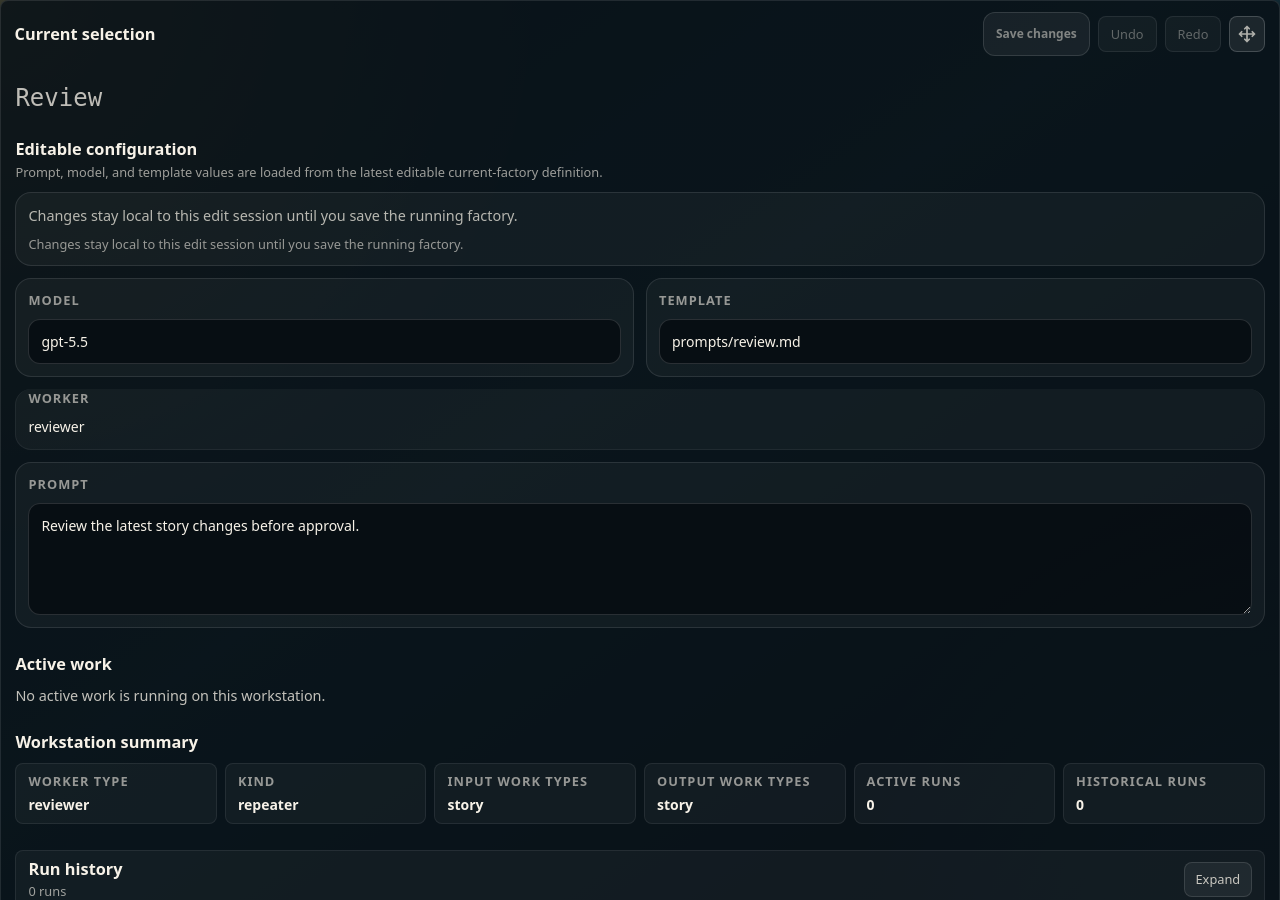
Test case: CurrentSelectionWidget workstation save flow › preserves edited workstation input when the save request fails
This screenshot has width=1280, height=900.
Replace the text in the text box labelled "Prompt" with "Keep this draft while the save fails." at (640,559), box [28,503,1252,615]
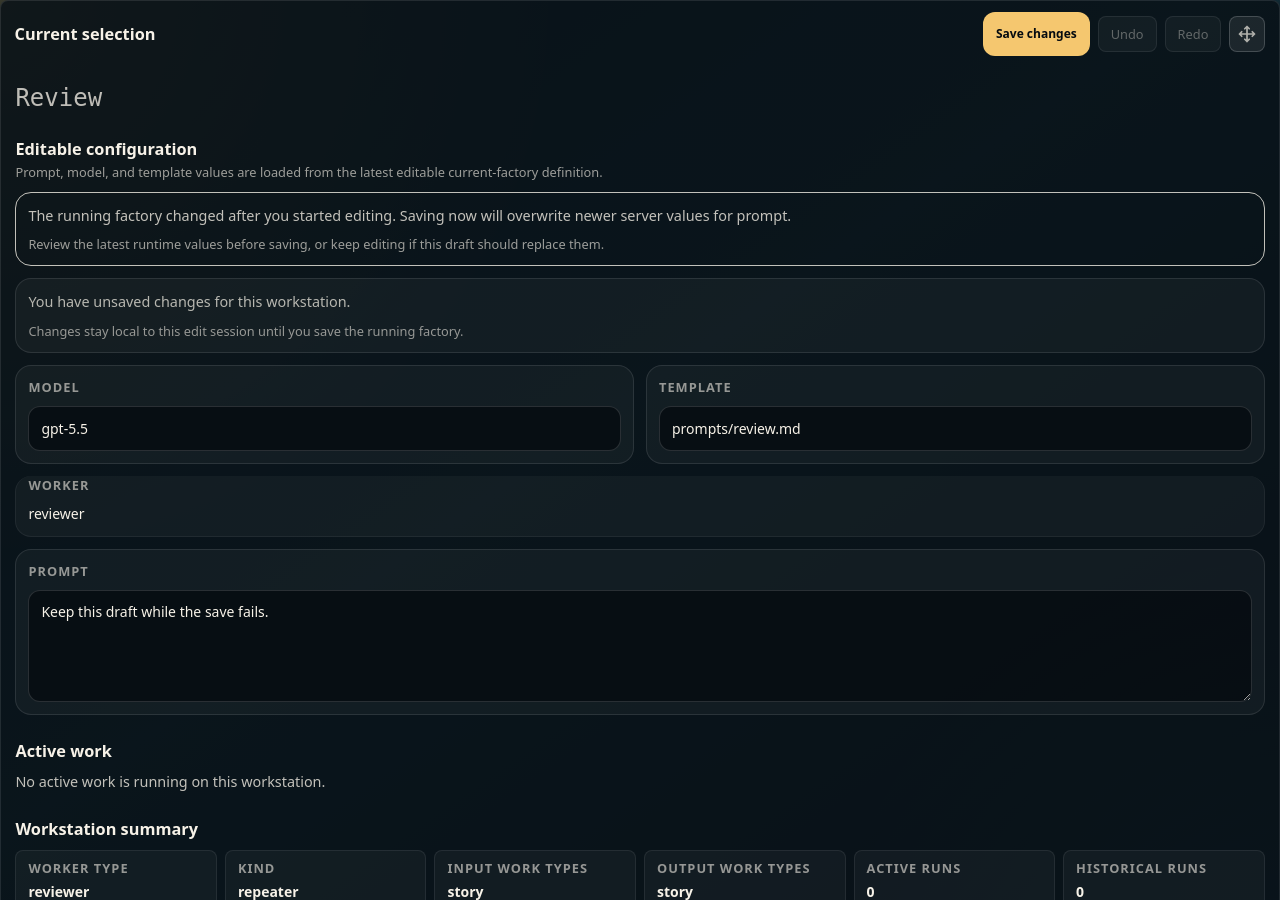
Click the button "Save changes" at (1036,34), box [983,12,1090,56]
(page scrolled)
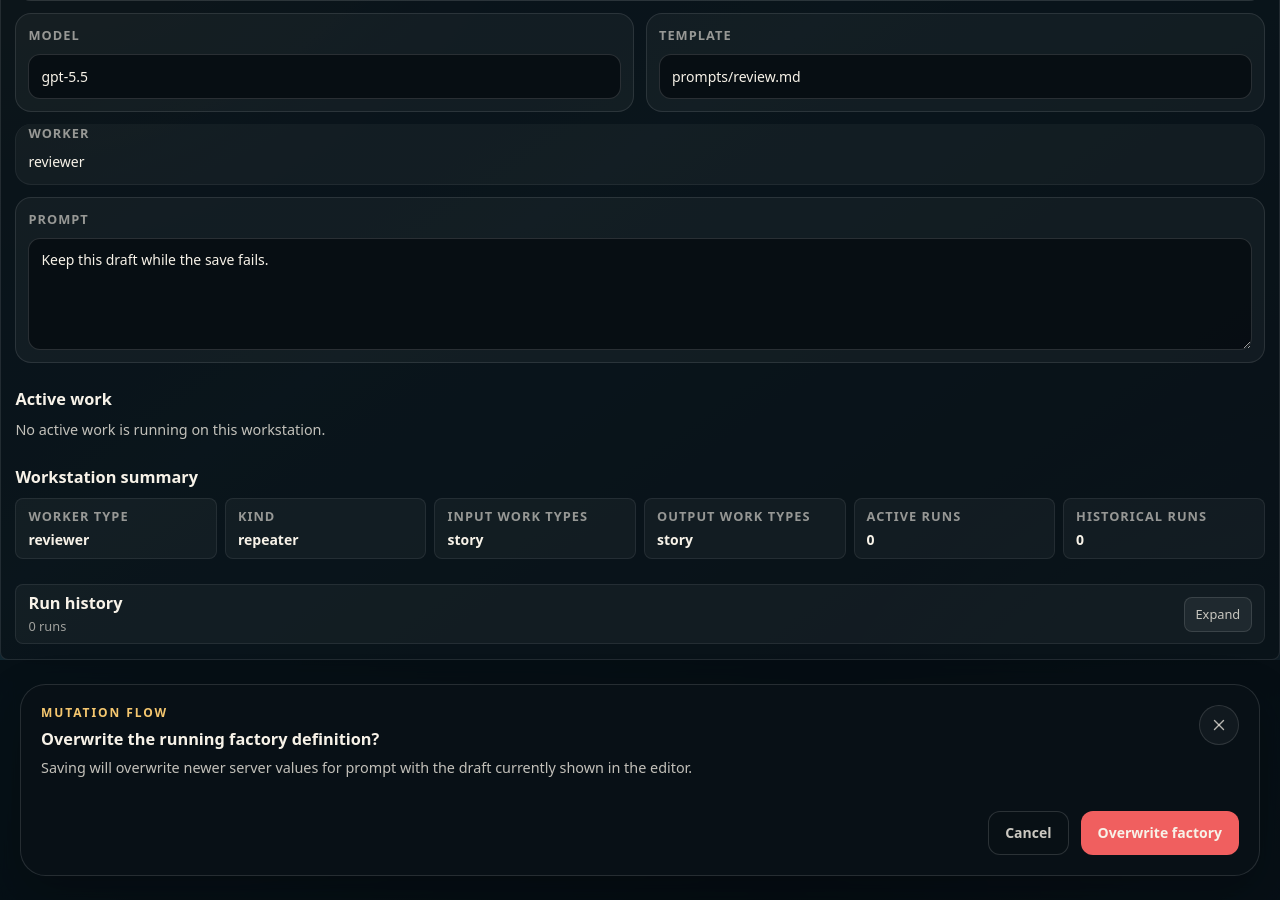
Click the button "Overwrite factory" at (1160,833), box [1080,811,1239,855]
(page scrolled)
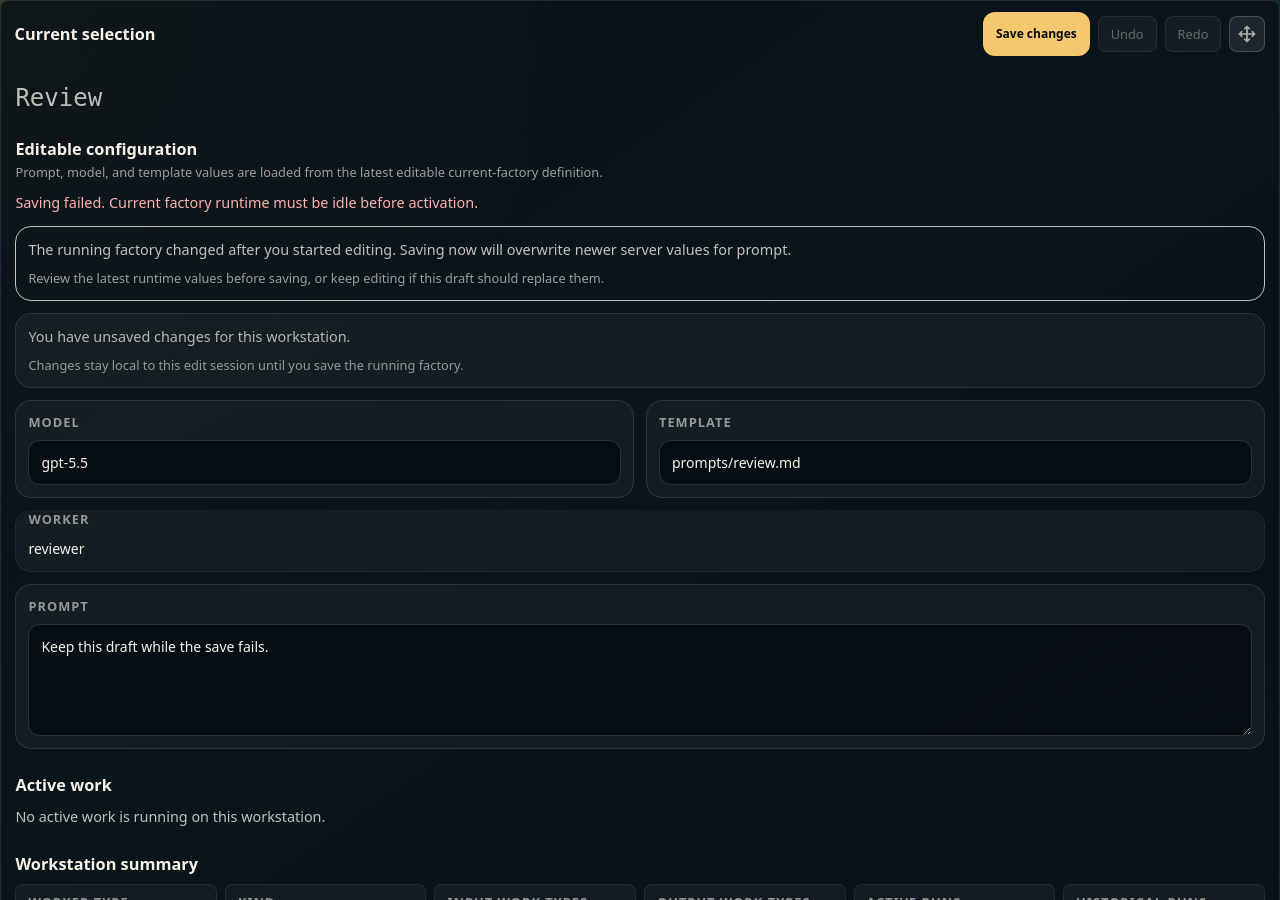
Check: the button "Save changes" is enabled, box [983,12,1090,56]
Check: the text "Saving failed. Current factory runtime must be idle before activation." is shown, box [15,193,478,212]
